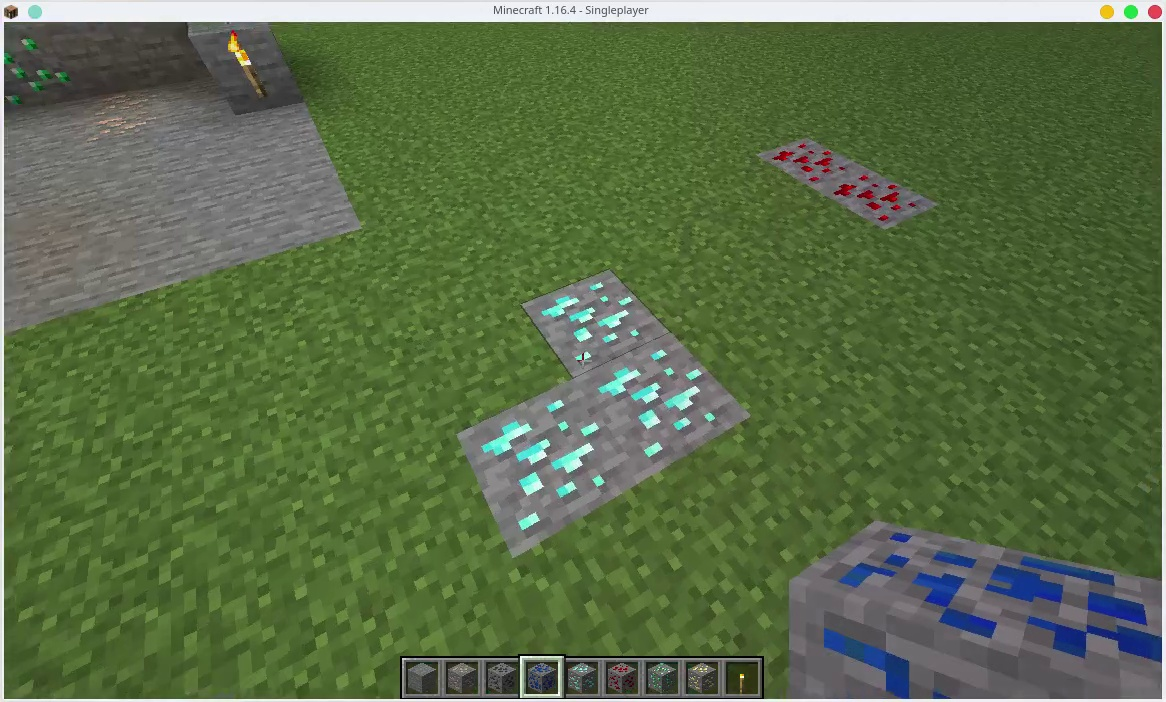gold: (686, 658, 713, 692)
